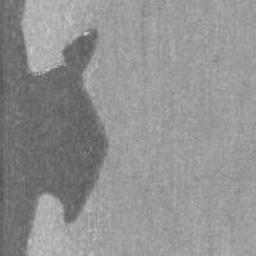Water spot: (0, 0, 110, 256)
